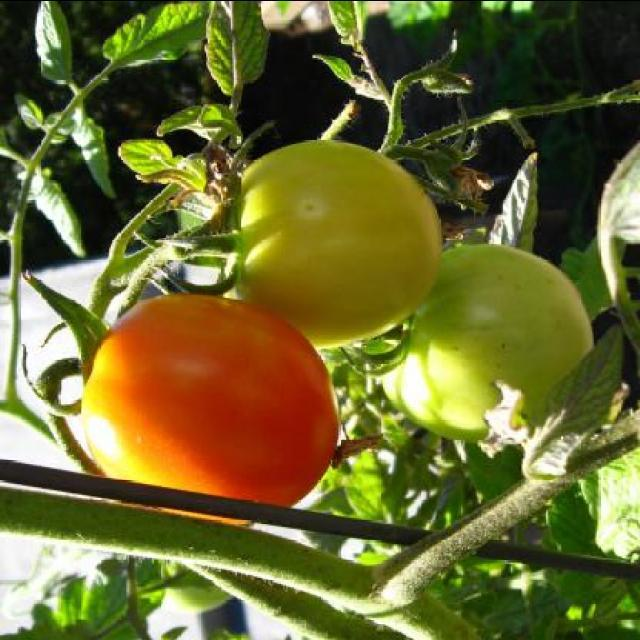Tomato: (74, 288, 354, 502), (176, 136, 450, 348), (340, 240, 594, 443)
